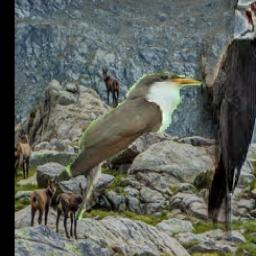Cuckoo: (53, 72, 207, 220)
Woodpecker: (195, 0, 256, 246)
